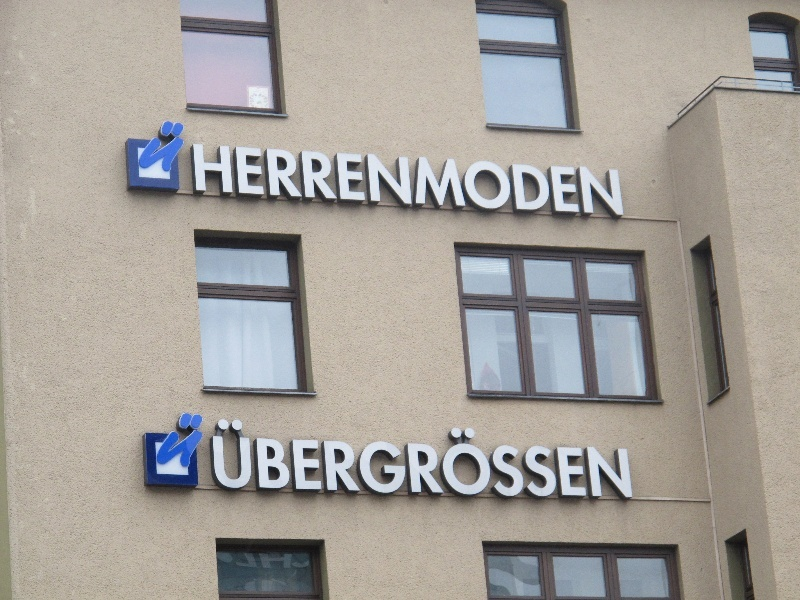text: (209, 418, 224, 502), (225, 418, 240, 502), (241, 418, 256, 502), (257, 418, 272, 502), (273, 418, 288, 502), (289, 418, 304, 502), (305, 418, 320, 502), (321, 418, 336, 502), (337, 418, 352, 502), (353, 418, 368, 502), (369, 418, 384, 502), (385, 418, 400, 502), (401, 418, 416, 502), (417, 418, 432, 502), (433, 418, 448, 502), (449, 418, 464, 502), (465, 418, 480, 502), (481, 418, 496, 502), (497, 418, 512, 502), (513, 418, 528, 502), (529, 418, 544, 502), (545, 418, 560, 502), (561, 418, 576, 502), (577, 418, 592, 502), (593, 418, 608, 502), (609, 418, 624, 502), (609, 146, 625, 221), (193, 146, 208, 221), (209, 146, 224, 221), (225, 146, 240, 221), (241, 146, 256, 221), (257, 146, 272, 221), (273, 146, 288, 221), (289, 146, 304, 221), (305, 146, 320, 221), (321, 146, 336, 221), (337, 146, 352, 221), (353, 146, 368, 221), (369, 146, 384, 221), (385, 146, 400, 221), (401, 146, 416, 221), (417, 146, 432, 221), (433, 146, 448, 221), (449, 146, 464, 221), (465, 146, 480, 221), (481, 146, 496, 221), (497, 146, 512, 221), (513, 146, 528, 221), (529, 146, 544, 221), (545, 146, 560, 221), (561, 146, 576, 221), (577, 146, 592, 221), (593, 146, 608, 221), (193, 414, 209, 470), (625, 418, 634, 502), (177, 122, 190, 177), (164, 122, 176, 177), (183, 414, 192, 470), (225, 553, 240, 571), (241, 553, 256, 571), (257, 553, 272, 571), (273, 553, 288, 571), (289, 553, 304, 571), (190, 146, 192, 221), (216, 553, 224, 571), (305, 553, 311, 571)
